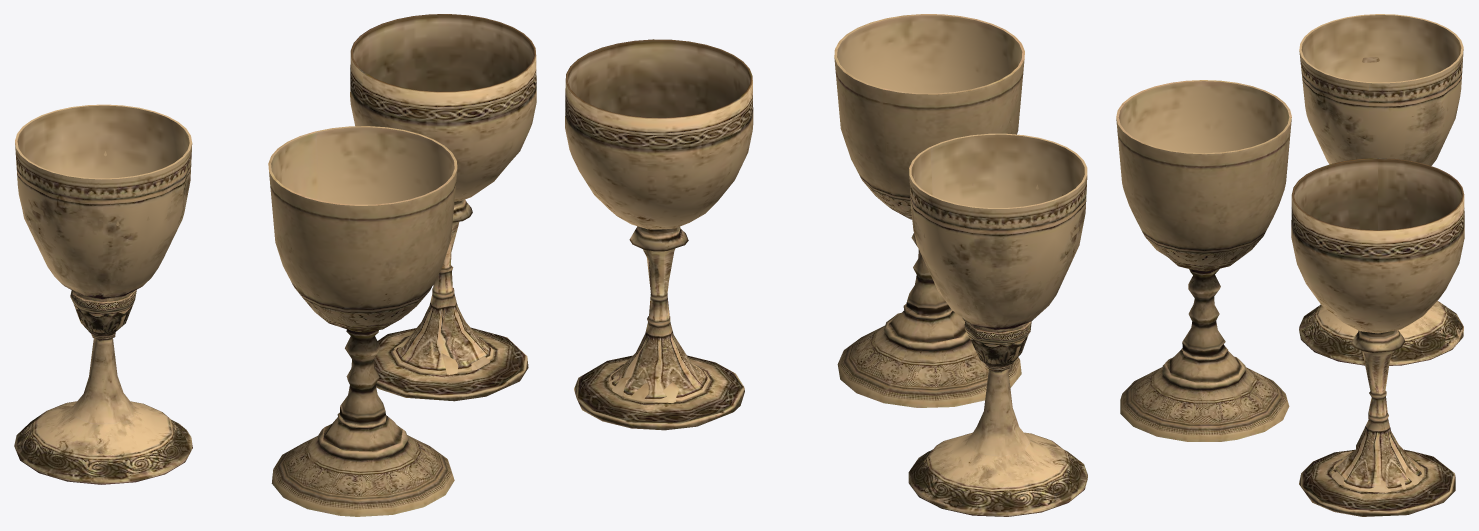
File: goblets-brass.glb
3 renders of one model, left to right at view 1: azimuth 30°, elevation 25°; view 2: azimuth 150°, elevation 25°; view 3: azimuth 270°, elevation 25°, orthographic. The views are drawn at different scales.
Parts seen in each view (by area): view 1: brass_goblet_01, brass_goblet_02, brass_goblet_03; view 2: brass_goblet_02, brass_goblet_03, brass_goblet_01; view 3: brass_goblet_01, brass_goblet_03, brass_goblet_02.
Boxes of the visible parts, <box> form: brass_goblet_01: <box>268,126,457,516</box>; brass_goblet_02: <box>14,104,192,484</box>; brass_goblet_03: <box>350,14,536,401</box>; brass_goblet_02: <box>908,133,1087,516</box>; brass_goblet_03: <box>565,39,753,430</box>; brass_goblet_01: <box>834,14,1024,407</box>; brass_goblet_01: <box>1116,80,1291,441</box>; brass_goblet_03: <box>1291,158,1464,516</box>; brass_goblet_02: <box>1299,14,1463,365</box>.
Size of the model in its own units: 0.4524 by 0.2734 by 0.2969.
Materials: 3 (3 with a texture image).
